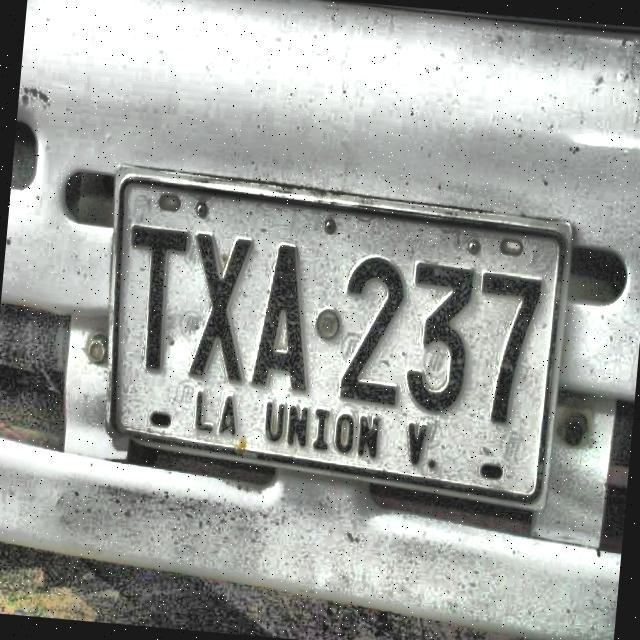2: (332, 246, 412, 409)
3: (401, 250, 482, 420)
7: (464, 264, 548, 426)
A: (246, 235, 323, 398)
T: (120, 222, 193, 374)
X: (178, 226, 258, 388)
